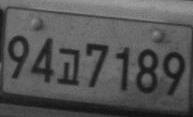1: (112, 46, 134, 91)
4: (30, 37, 55, 82)
7: (84, 42, 109, 88)
8: (134, 47, 160, 94)
9: (162, 50, 186, 96), (7, 34, 30, 79)
고: (56, 47, 80, 85)
